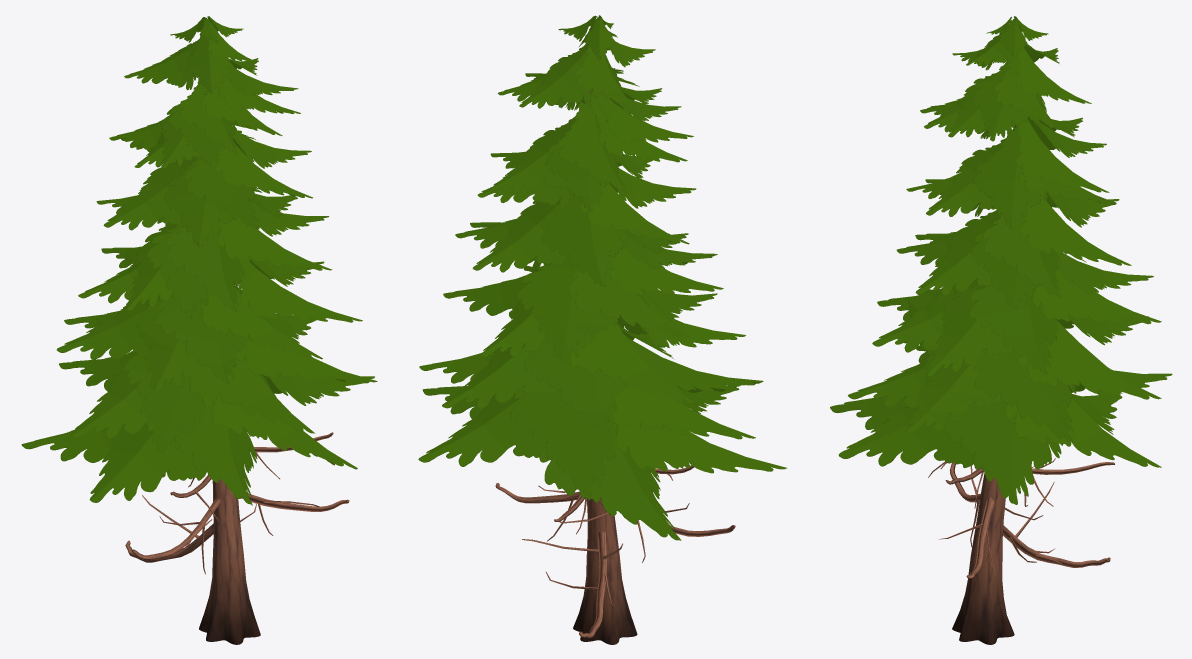
The model's file is Pine_4.glb.
3 views of the same model, side by side, from view 1: azimuth 30°, elevation 25°; view 2: azimuth 150°, elevation 25°; view 3: azimuth 270°, elevation 25° (orthographic). The views are drawn at different scales.
Size of the model in its own units: 5.8 by 10.24 by 5.37.
2 materials, 2 textured.
